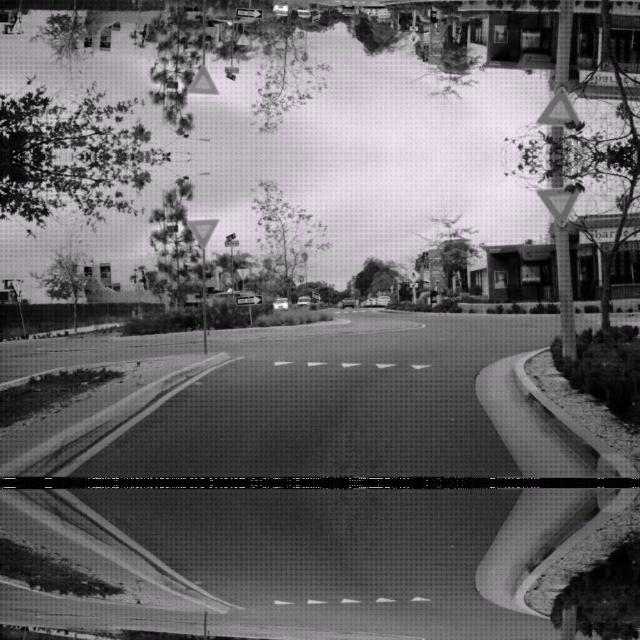pedestrianCrossing: (406, 267, 420, 281), (406, 31, 420, 45)
yield: (534, 184, 580, 226), (534, 86, 580, 128), (186, 216, 218, 246), (186, 66, 218, 96)
